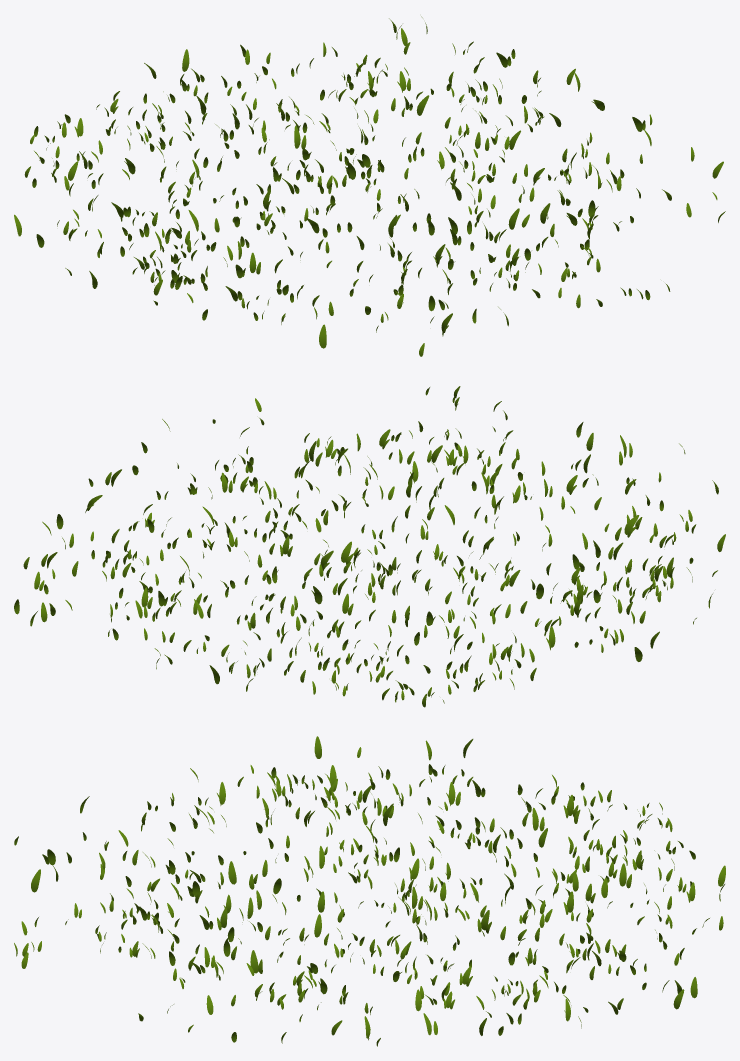
Rendered from BigGrass.fbx.
3 renders of one model, top to bottom at view 1: azimuth 30°, elevation 25°; view 2: azimuth 150°, elevation 25°; view 3: azimuth 270°, elevation 25°, orthographic.
Parts seen in each view (by area): view 1: BigGrass; view 2: BigGrass; view 3: BigGrass.
Part boxes in pixels (bbox=[...]): BigGrass: bbox=[14, 16, 725, 356]; BigGrass: bbox=[14, 386, 725, 707]; BigGrass: bbox=[14, 736, 725, 1046].
Size of the model in its own units: 19.97 by 1.22 by 20.57.
